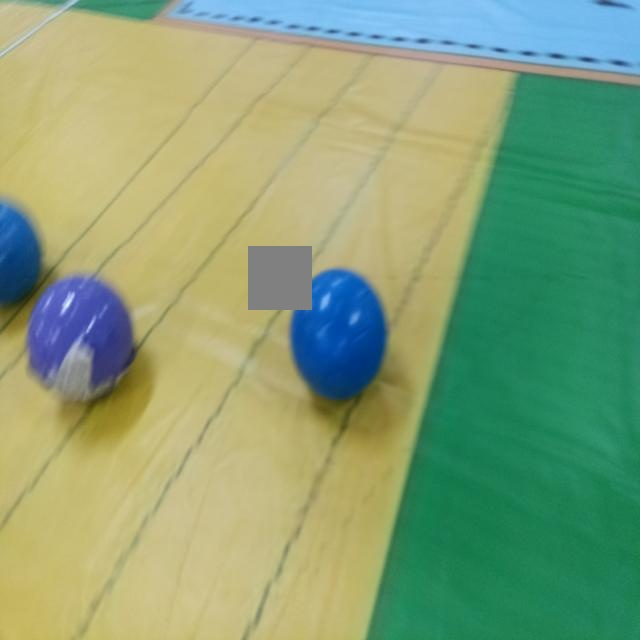blue_ball: (287, 260, 394, 406), (0, 187, 45, 313)
purple_ball: (25, 269, 133, 409)
